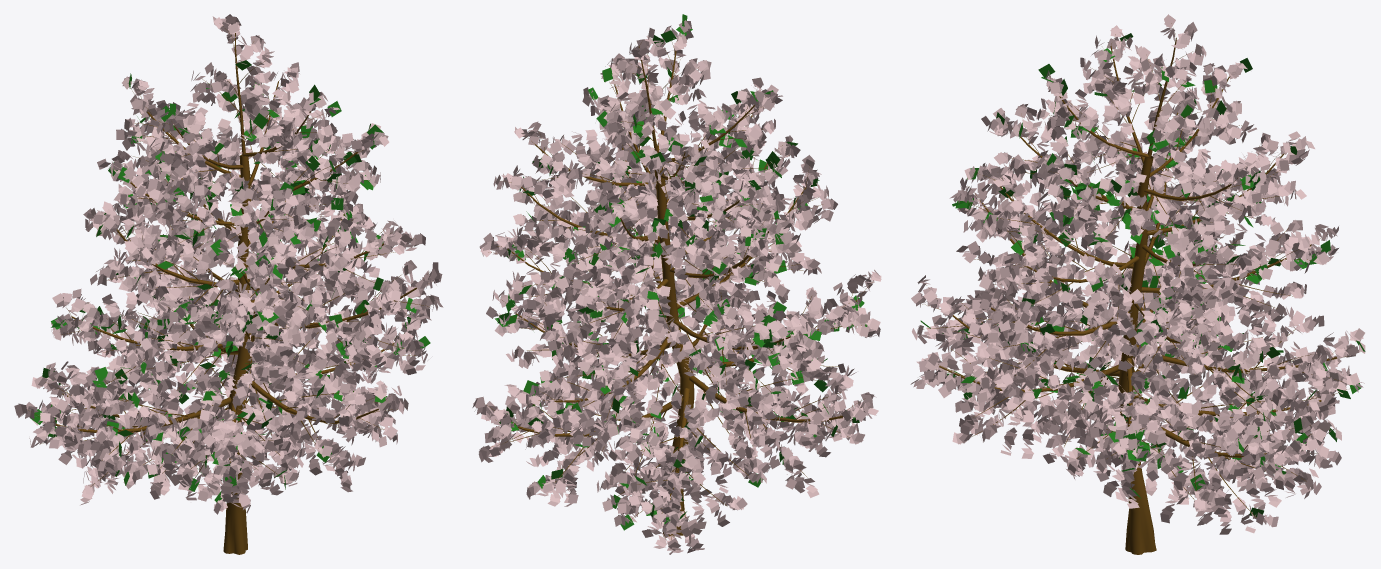
Rendered from Japanese FloweringCherry001.FBX.
3 views of the same model, side by side, from view 1: azimuth 30°, elevation 25°; view 2: azimuth 150°, elevation 25°; view 3: azimuth 270°, elevation 25° (orthographic). The views are drawn at different scales.
Parts seen in each view (by area): view 1: JapaneseFloweringCherry001; view 2: JapaneseFloweringCherry001; view 3: JapaneseFloweringCherry001.
Boxes of the visible parts, x1,y1,x2,y2 form: JapaneseFloweringCherry001: [14, 14, 443, 554]; JapaneseFloweringCherry001: [472, 14, 881, 554]; JapaneseFloweringCherry001: [910, 14, 1365, 554].
Bounding box in the file's own units: 297 × 373 × 286.
